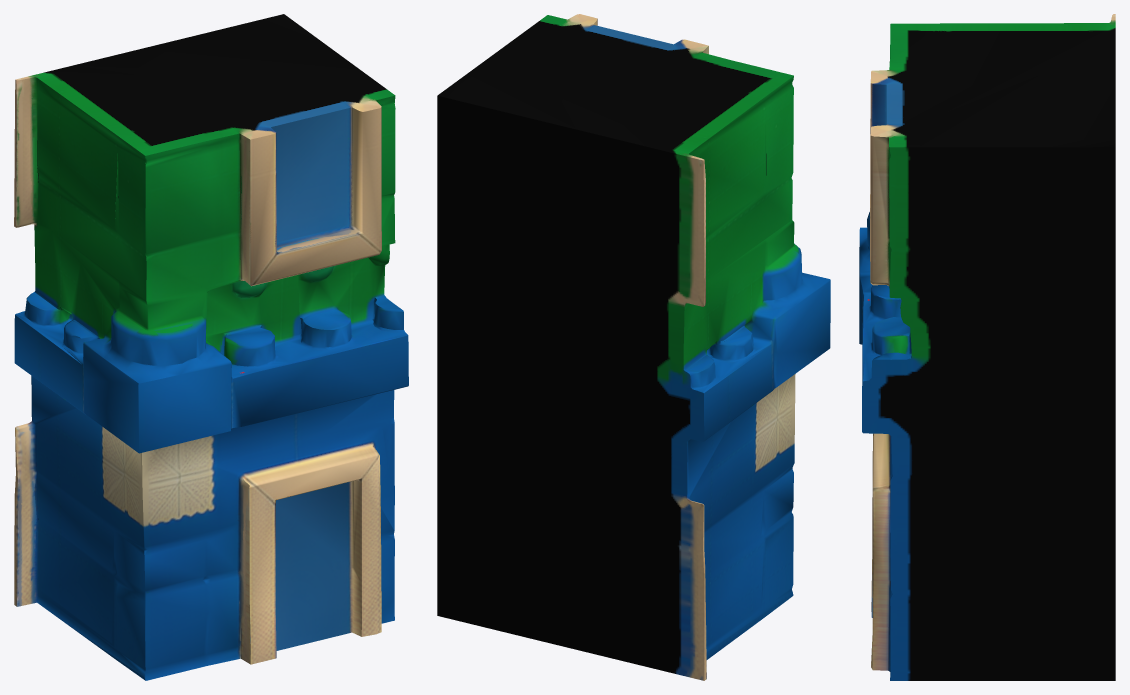
File: 5-upper-walls-front-left.fbx
3 views of the same model, side by side, from view 1: azimuth 30°, elevation 25°; view 2: azimuth 150°, elevation 25°; view 3: azimuth 270°, elevation 25° (orthographic). The views are drawn at different scales.
Parts seen in each view (by area): view 1: upper-walls-front-left; view 2: upper-walls-front-left; view 3: upper-walls-front-left.
Part boxes in pixels (x1,y1,x2,y2): upper-walls-front-left: [14, 14, 408, 680]; upper-walls-front-left: [437, 14, 830, 680]; upper-walls-front-left: [859, 14, 1115, 680].
Size of the model in its own units: 3521 by 6507 by 2832.
1 material, 1 textured.
